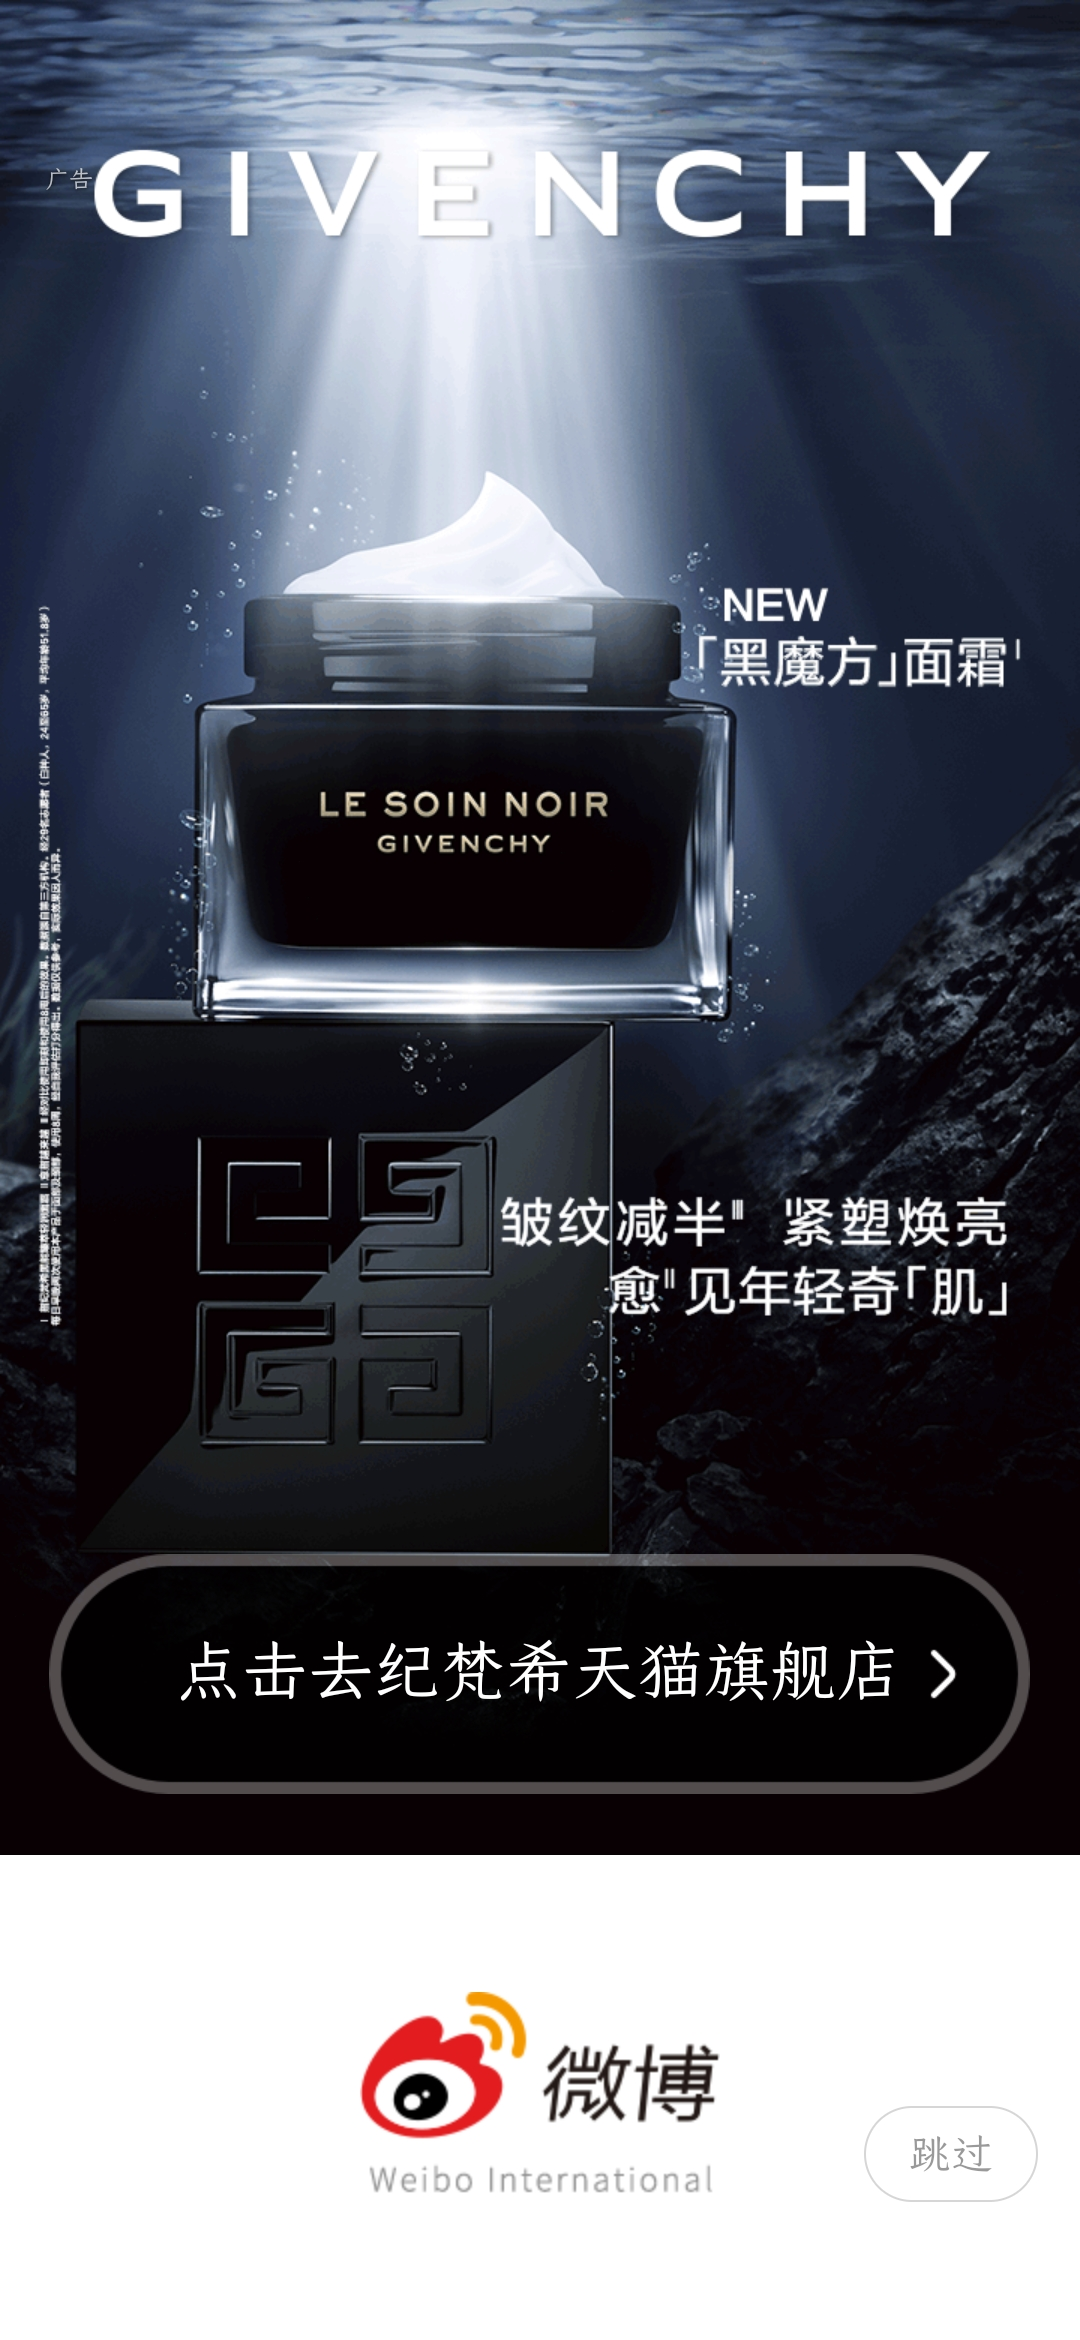skip: (885, 2103, 1023, 2183)
